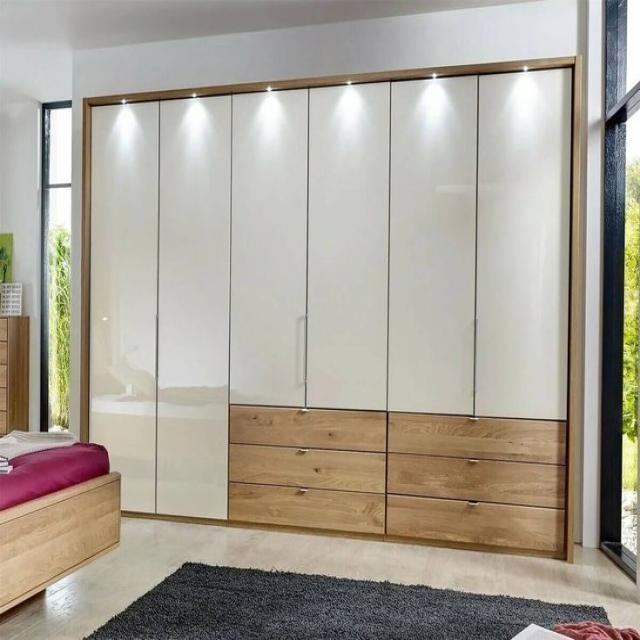obstacle: (229, 404, 567, 564), (0, 429, 121, 616)
